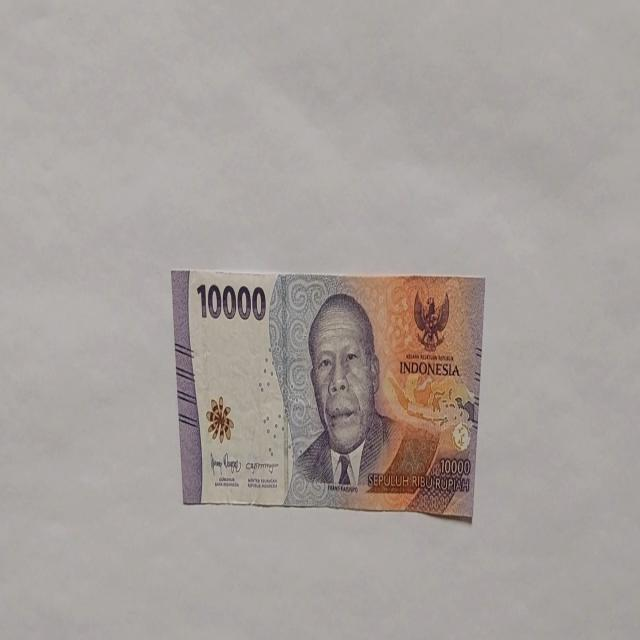sepuluh ribu rupiah: (170, 266, 486, 520)
